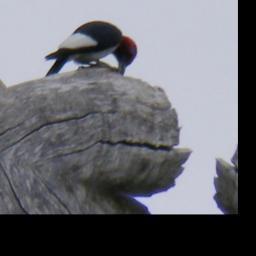Woodpecker: (36, 4, 147, 104)
